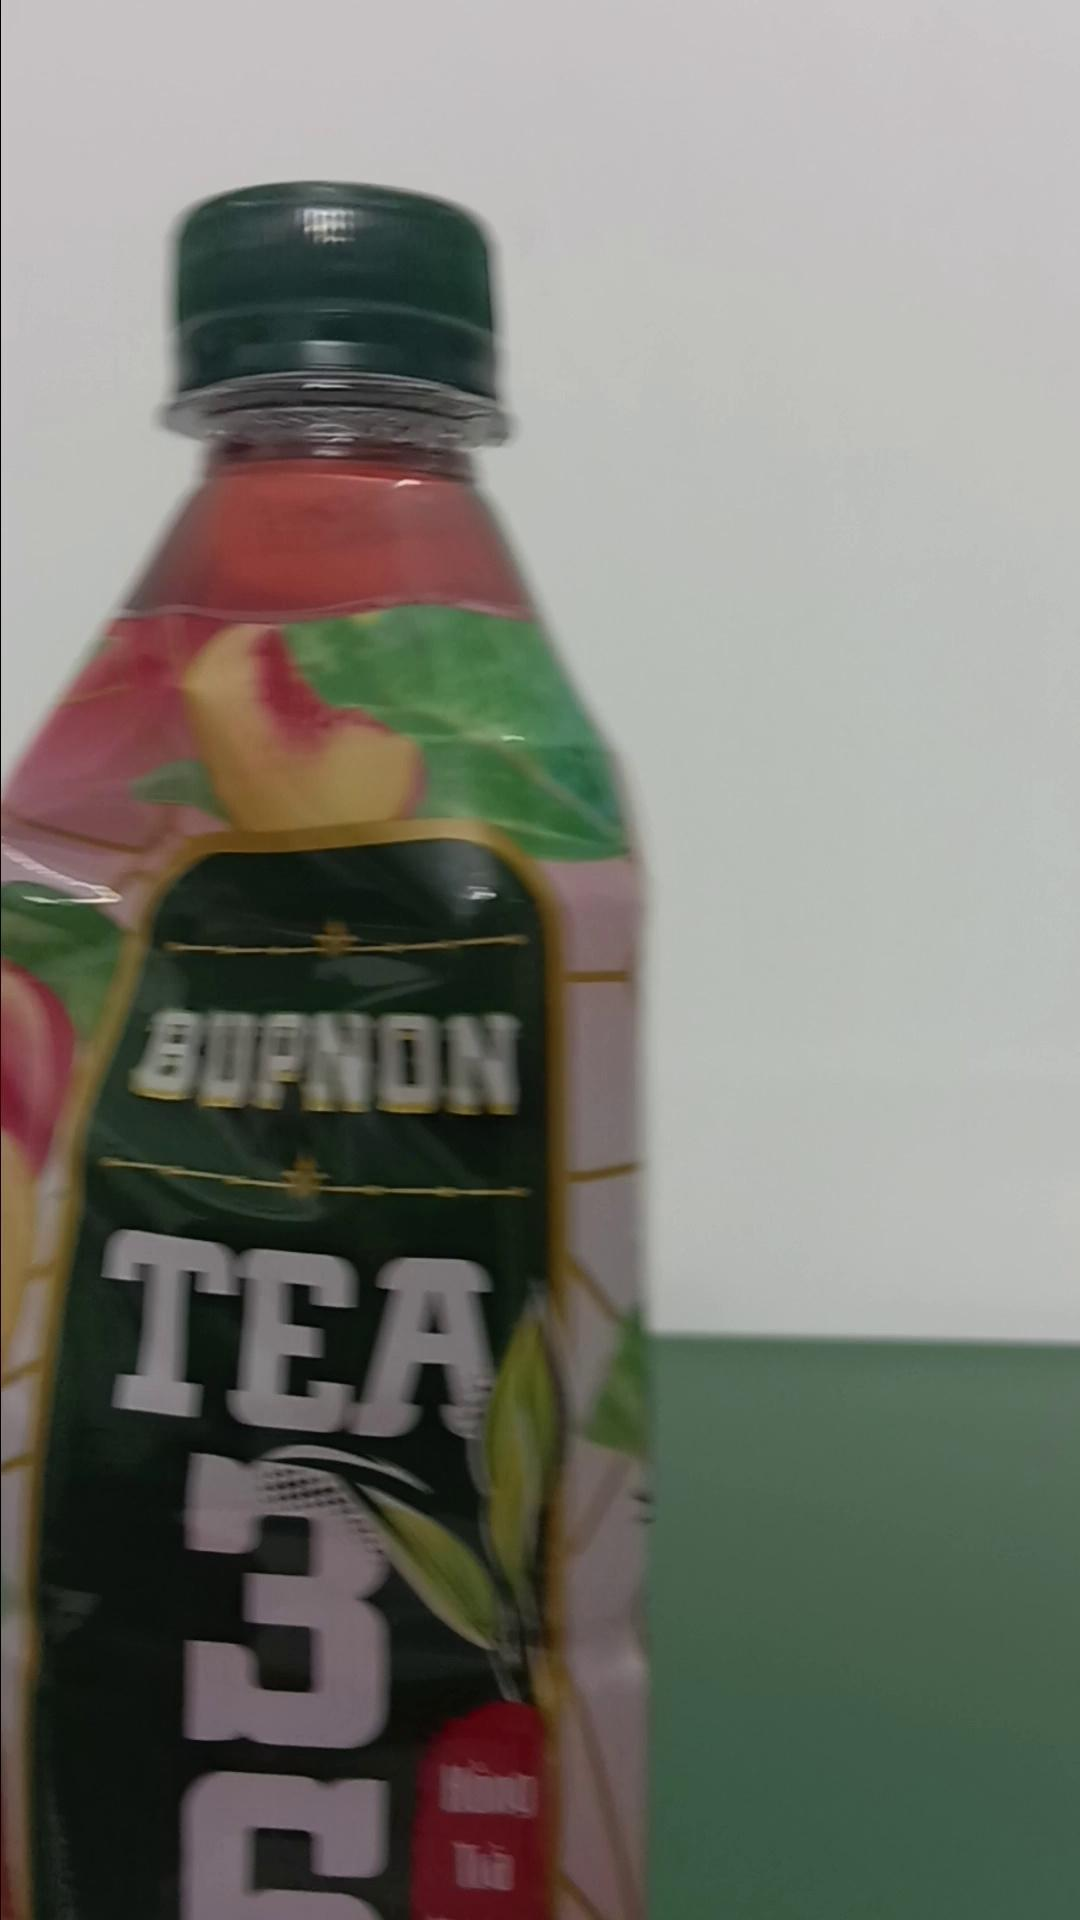loi meo sp: (4, 177, 653, 1913)
